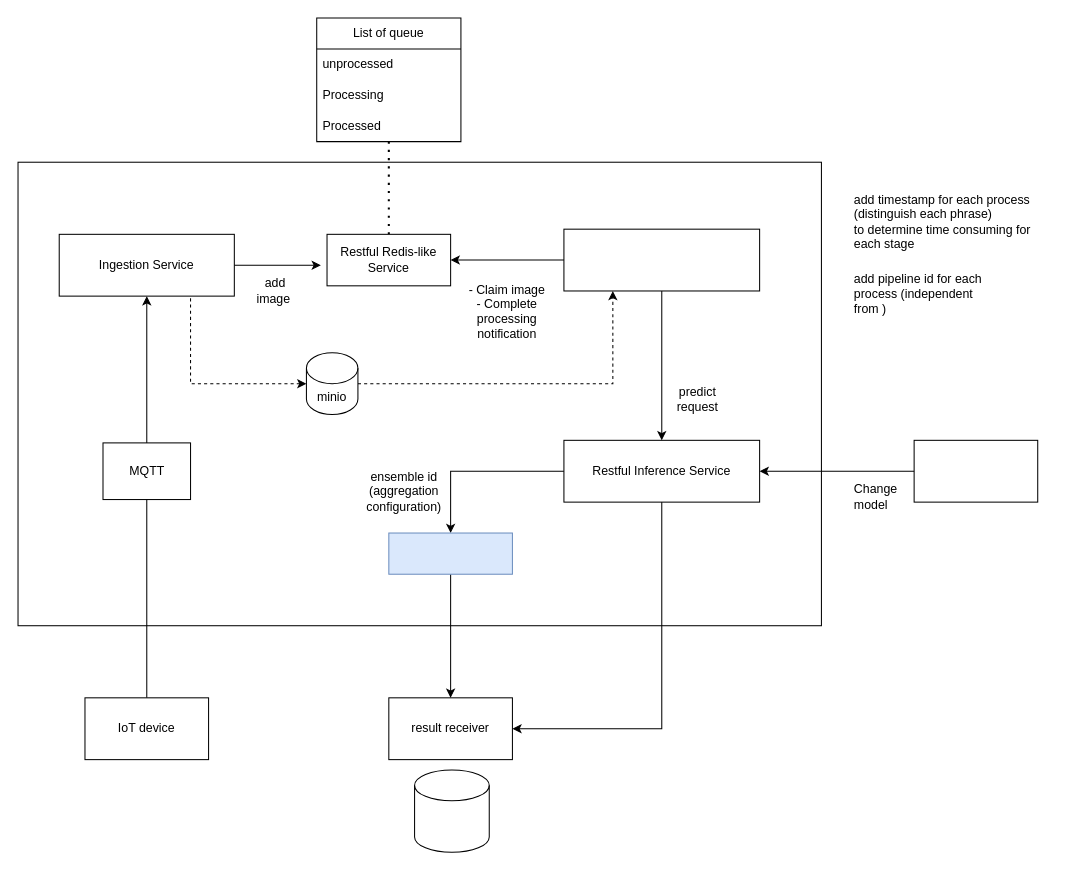
Image size: 1076x870. Some labels were removed from this diagram. Each missing label, with the centre of its shape:
aggregating (quix streams): (450,553)
it can be a db like SQL or mongo: (451,810)
Processing Service: (661,259)
service controller: (975,470)
